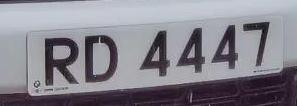4: (137, 23, 177, 85), (172, 21, 210, 82), (210, 18, 244, 77)
7: (242, 16, 276, 72)
D: (80, 28, 123, 88)
R: (41, 31, 84, 89)
